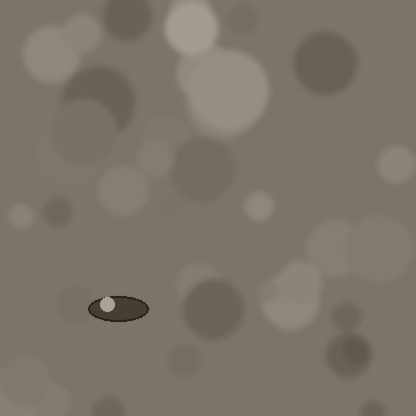gota: (88, 297, 148, 323)
